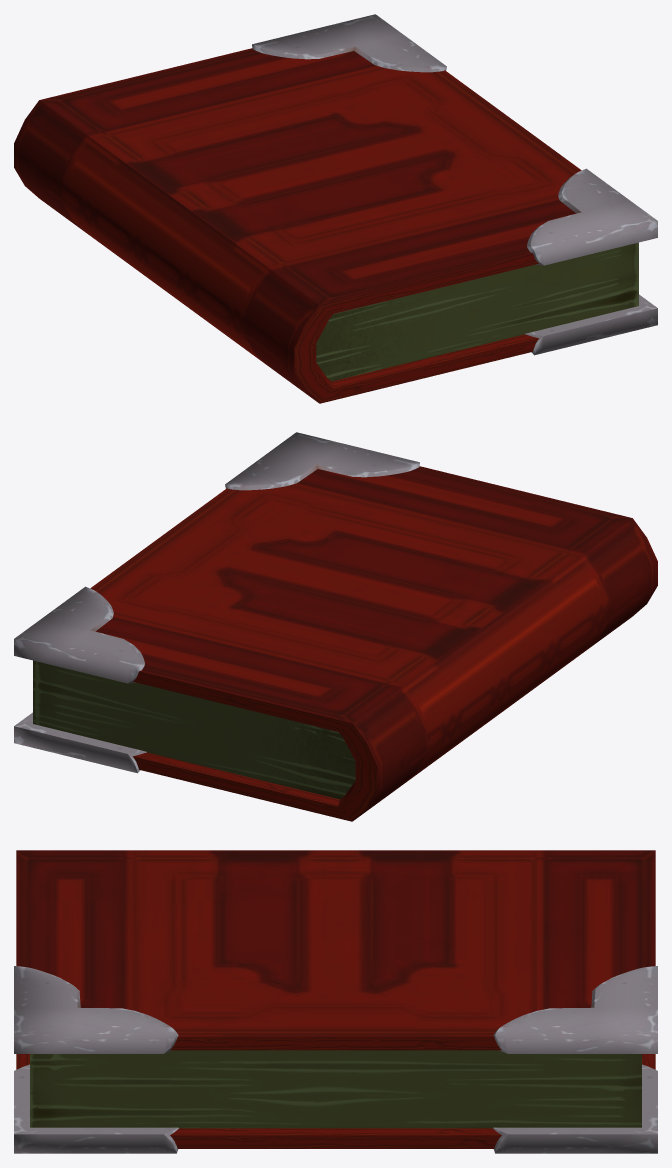
File: Book_7.gltf
The picture shows the model from 3 angles, top to bottom: view 1: azimuth 30°, elevation 25°; view 2: azimuth 150°, elevation 25°; view 3: azimuth 270°, elevation 25°; orthographic projection. The views are drawn at different scales.
Visible parts, largest first — view 1: Book_7; view 2: Book_7; view 3: Book_7.
Part boxes in pixels (bbox=[...]): Book_7: bbox=[14, 14, 657, 403]; Book_7: bbox=[14, 432, 657, 821]; Book_7: bbox=[14, 850, 657, 1153].
Size of the model in its own units: 0.247 by 0.0679 by 0.3333.
2 materials, 2 textured.
